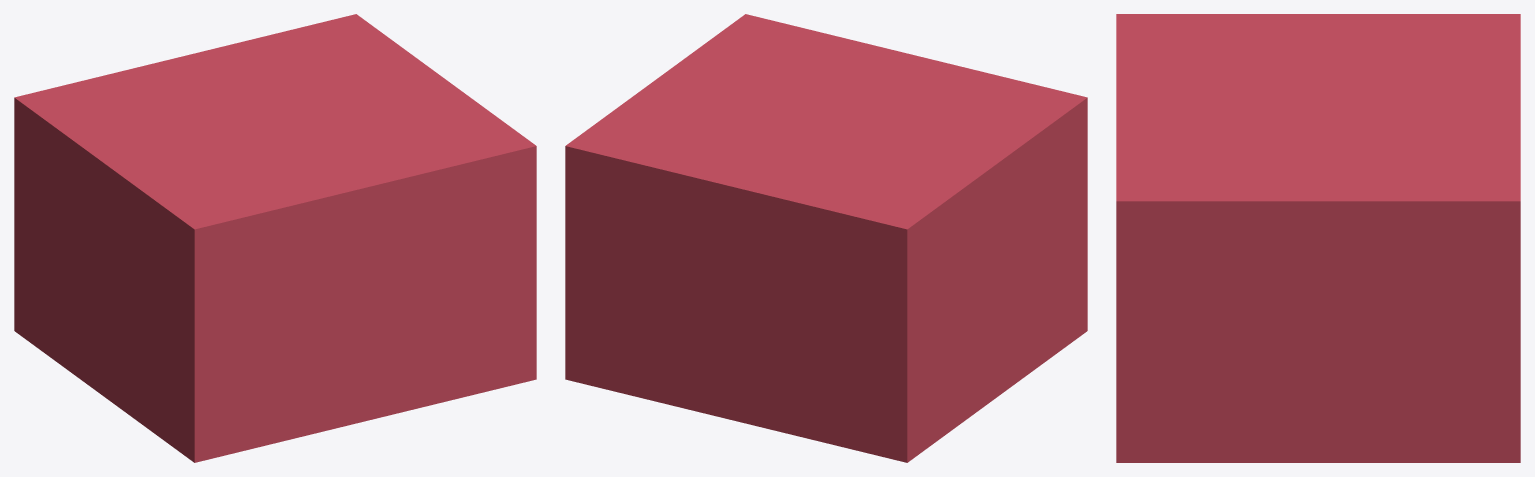
File: Gift11.glb
The picture shows the model from 3 angles, left to right: view 1: azimuth 30°, elevation 25°; view 2: azimuth 150°, elevation 25°; view 3: azimuth 270°, elevation 25°; orthographic projection. The views are drawn at different scales.
Visible parts, largest first — view 1: Gift11; view 2: Gift11; view 3: Gift11.
Part boxes in pixels (box(x1,y1,x2,y2)): Gift11: box(14, 14, 536, 462); Gift11: box(565, 14, 1087, 462); Gift11: box(1116, 14, 1520, 462).
Size of the model in its own units: 0.0115 by 0.0075 by 0.0105.
